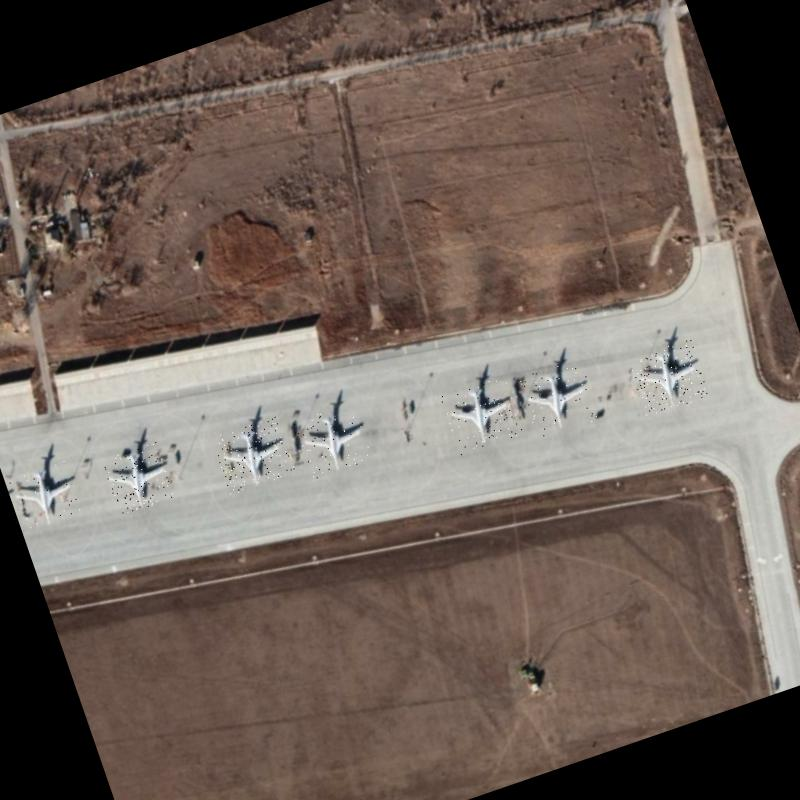A6: (515, 357, 601, 441), (440, 374, 524, 456), (211, 415, 296, 495), (292, 400, 374, 481), (628, 338, 710, 417), (100, 442, 176, 516), (7, 459, 82, 532)
